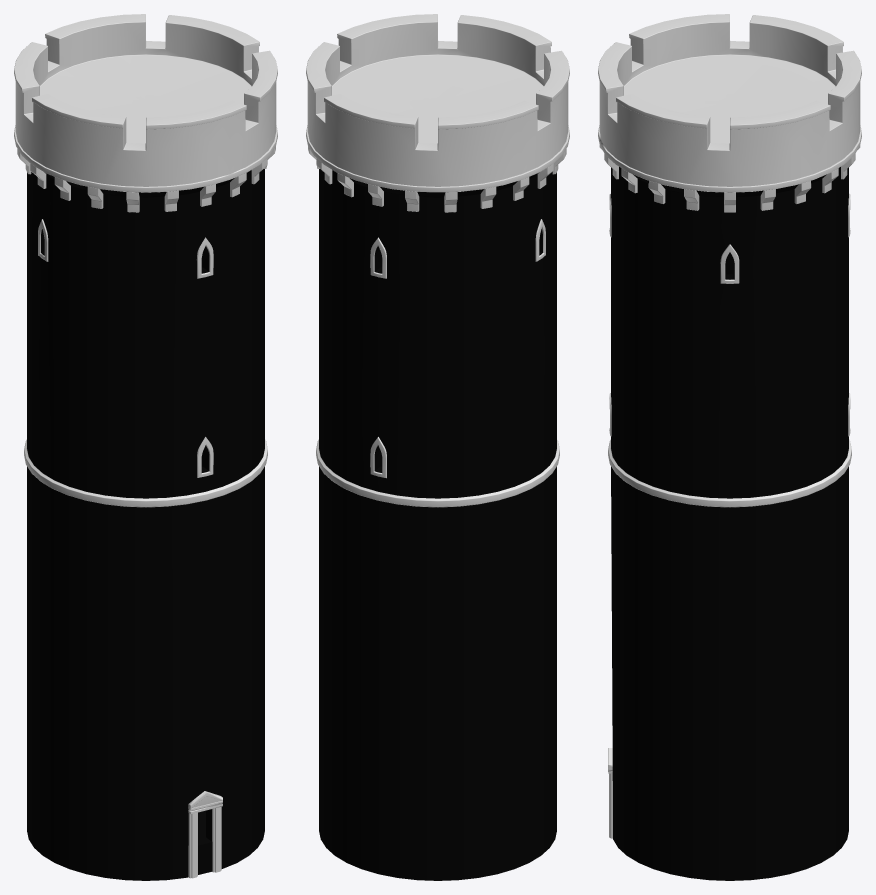
The model's file is TowerGuard.glb.
The picture shows the model from 3 angles, left to right: view 1: azimuth 30°, elevation 25°; view 2: azimuth 150°, elevation 25°; view 3: azimuth 270°, elevation 25°; orthographic projection.
Visible parts, largest first — view 1: TowerGuardMain, TowerGuardEntrance; view 2: TowerGuardMain, TowerGuardEntrance; view 3: TowerGuardMain, TowerGuardEntrance.
Part boxes in pixels (left/top/right/bottom): TowerGuardMain: left=27, top=169, right=264, bottom=880; TowerGuardEntrance: left=14, top=14, right=277, bottom=878; TowerGuardMain: left=319, top=169, right=556, bottom=880; TowerGuardEntrance: left=306, top=14, right=569, bottom=507; TowerGuardMain: left=611, top=167, right=848, bottom=880; TowerGuardEntrance: left=598, top=14, right=861, bottom=838.
Size of the model in its own units: 17.59 by 55.98 by 17.59.
1 material, 1 textured.
